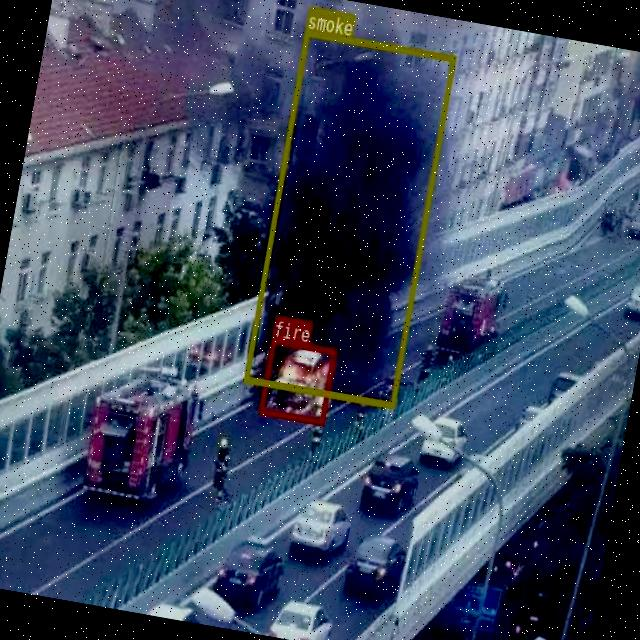fire: (258, 336, 336, 423)
smoke: (242, 28, 456, 407)
